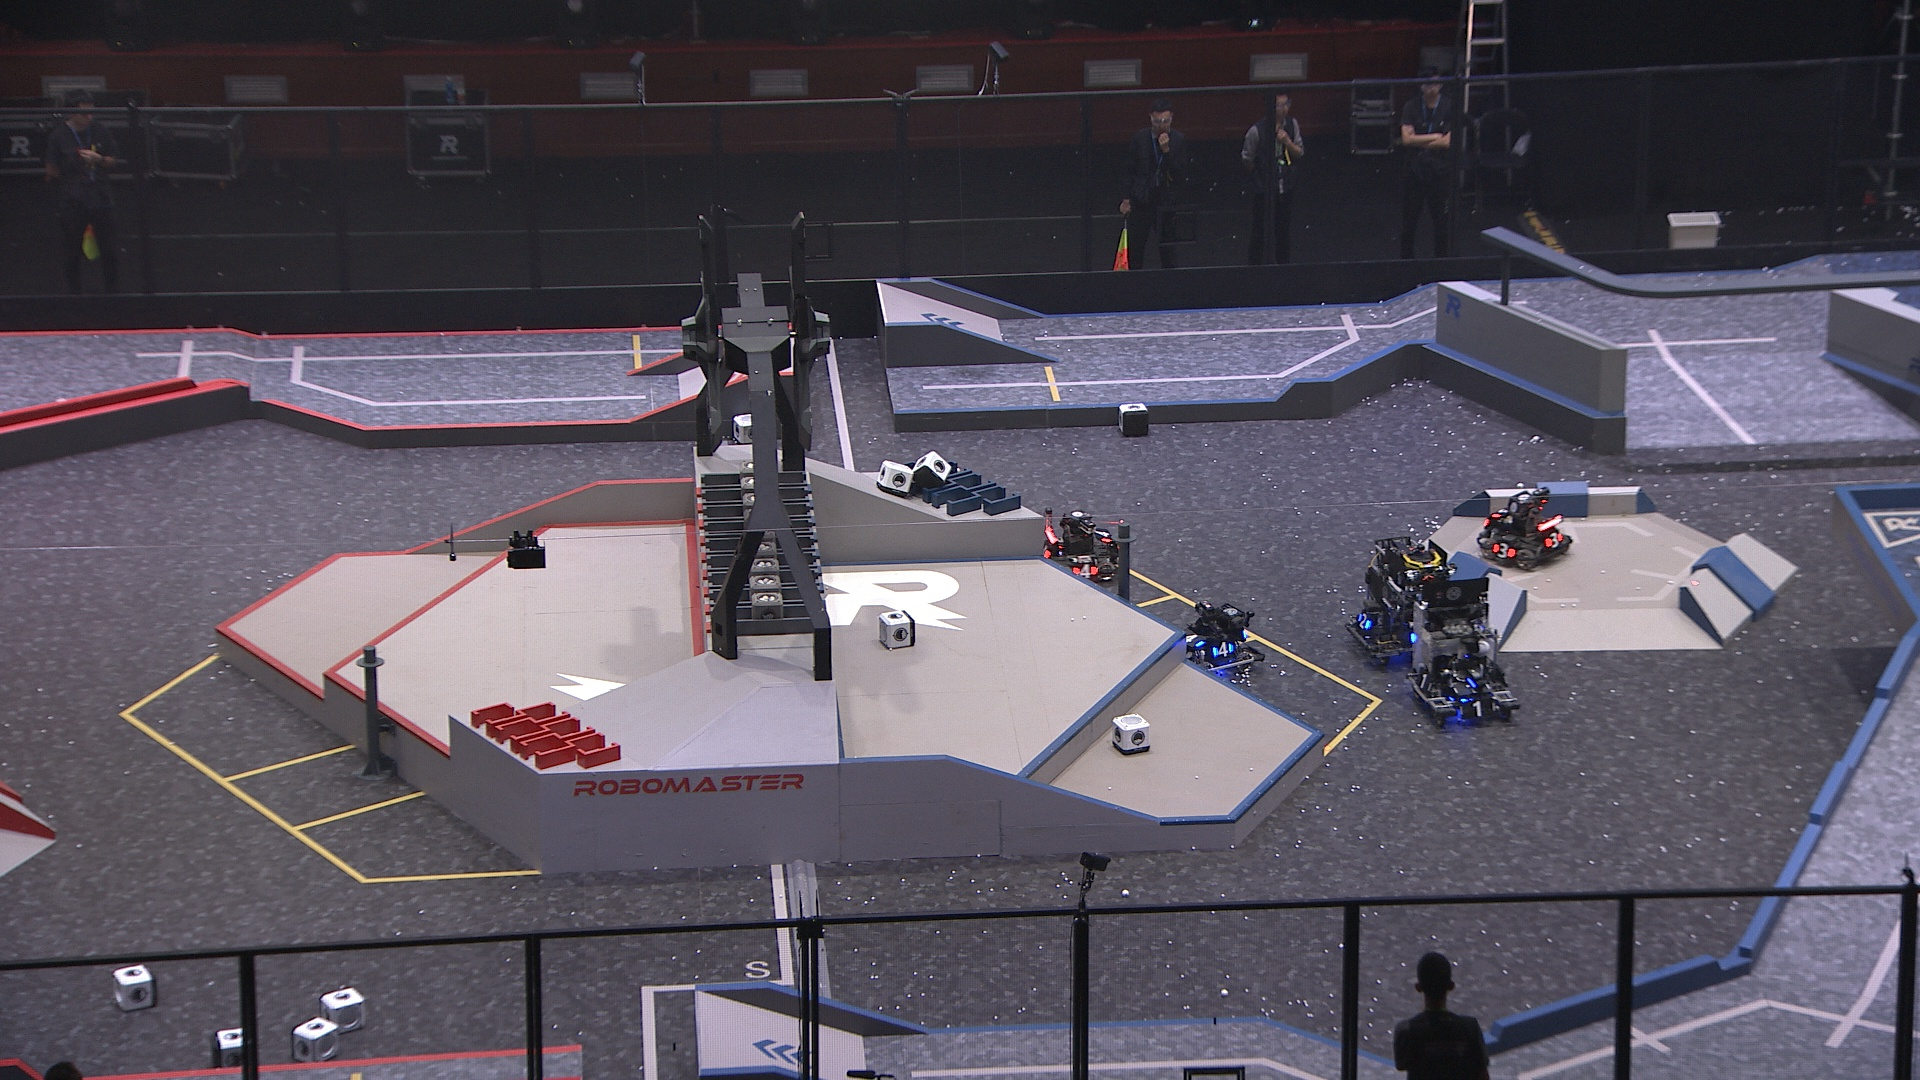armor: (1460, 698, 1495, 717), (1455, 676, 1491, 694), (1416, 669, 1433, 698), (1092, 524, 1114, 545), (1490, 541, 1514, 560), (1544, 529, 1563, 553), (1073, 562, 1097, 579), (1489, 505, 1513, 522), (1183, 632, 1201, 650), (1215, 640, 1233, 657), (1038, 541, 1051, 564), (1357, 612, 1371, 629)
car: (1403, 576, 1522, 727), (1346, 534, 1455, 666), (1476, 488, 1571, 574), (1035, 500, 1124, 588), (1174, 603, 1262, 680)
